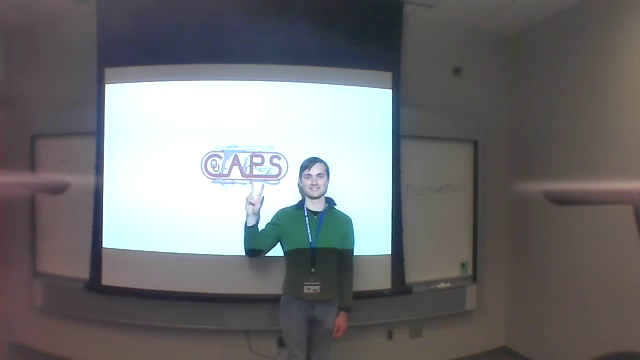peace: (235, 176, 275, 219)
